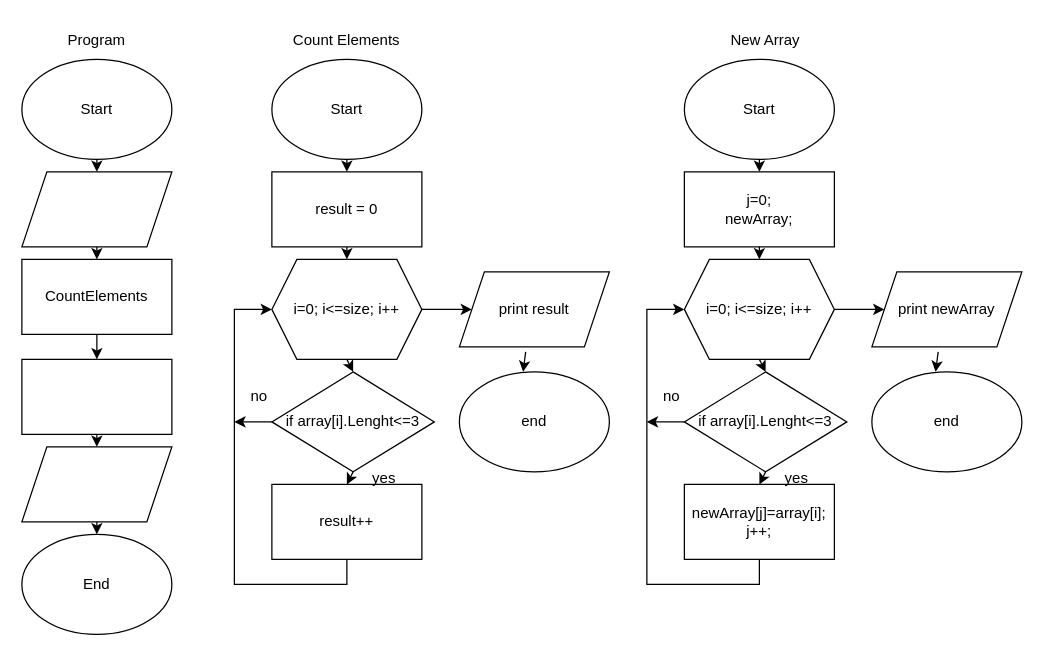
This 1044x656 diagram has some shape labels left out. Each missing label, with the box of its shape:
InputArray: (21, 171, 172, 247)
NewArray: (21, 358, 172, 434)
PrintArray: (21, 446, 172, 522)
